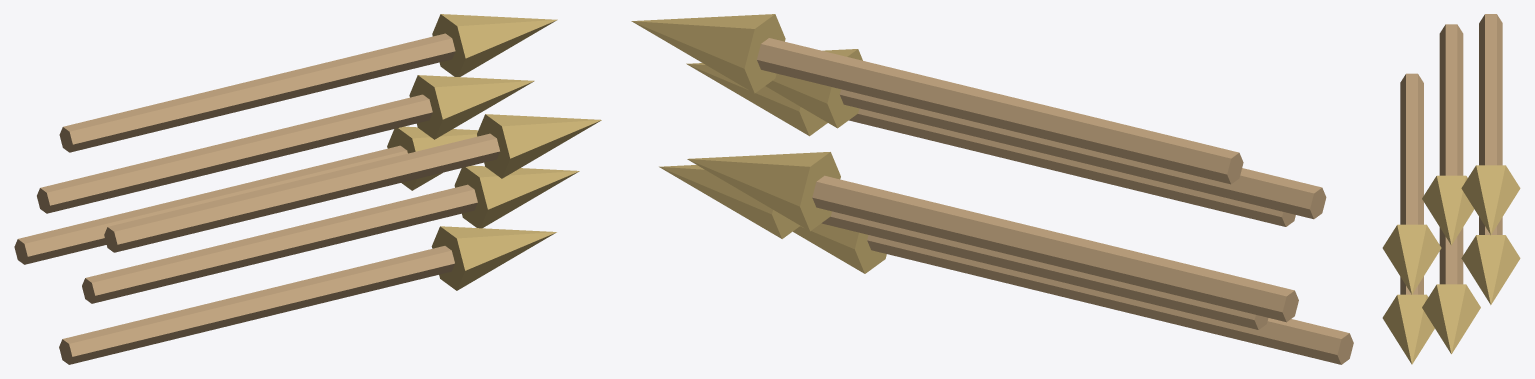
Rendered from item_086_bronze_spear_l.glb.
The picture shows the model from 3 angles, left to right: view 1: azimuth 30°, elevation 25°; view 2: azimuth 150°, elevation 25°; view 3: azimuth 270°, elevation 25°; orthographic projection. The views are drawn at different scales.
Visible parts, largest first — view 1: item_086_bronze_spear_l; view 2: item_086_bronze_spear_l; view 3: item_086_bronze_spear_l.
Boxes of the visible parts, x1=… form: item_086_bronze_spear_l: x1=14, y1=14, x2=601, y2=364; item_086_bronze_spear_l: x1=631, y1=14, x2=1353, y2=364; item_086_bronze_spear_l: x1=1382, y1=14, x2=1520, y2=364.
Size of the model in its own units: 0.8332 by 0.3279 by 0.21.
